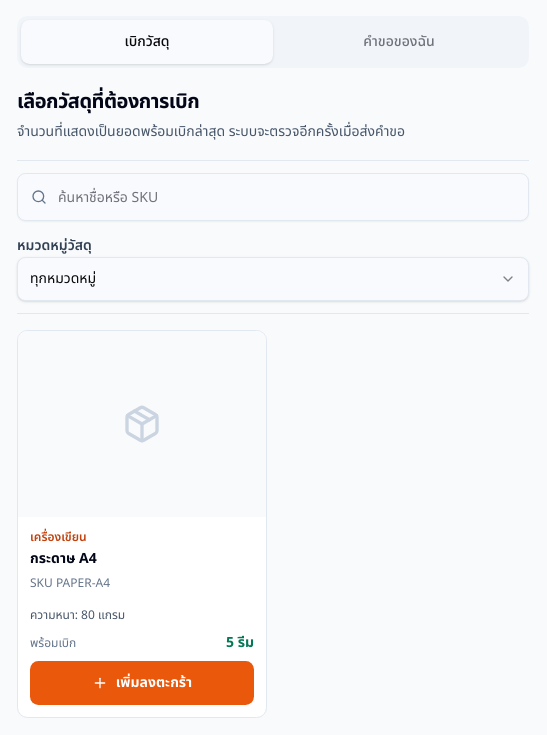
Test: LIFF Stock app orchestration › loads employee Stock without requesting the processor queue
Check: the heading "เลือกวัสดุที่ต้องการเบิก" is shown, box [17,87,199,117]
Check: the heading "กระดาษ A4" is shown, box [30,548,97,569]
Press the mouse on the tab "คำขอของฉัน" at (399, 42), box [273,20,525,64]
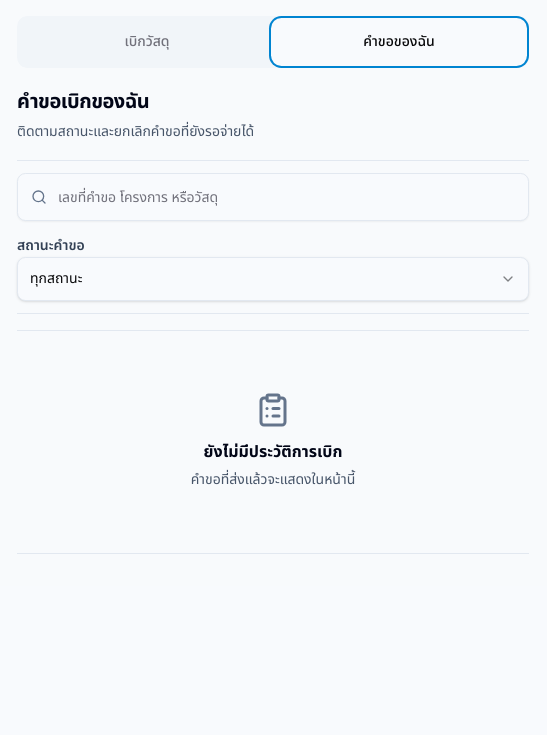
Check: the heading "ยังไม่มีประวัติการเบิก" is shown, box [204,440,342,464]
